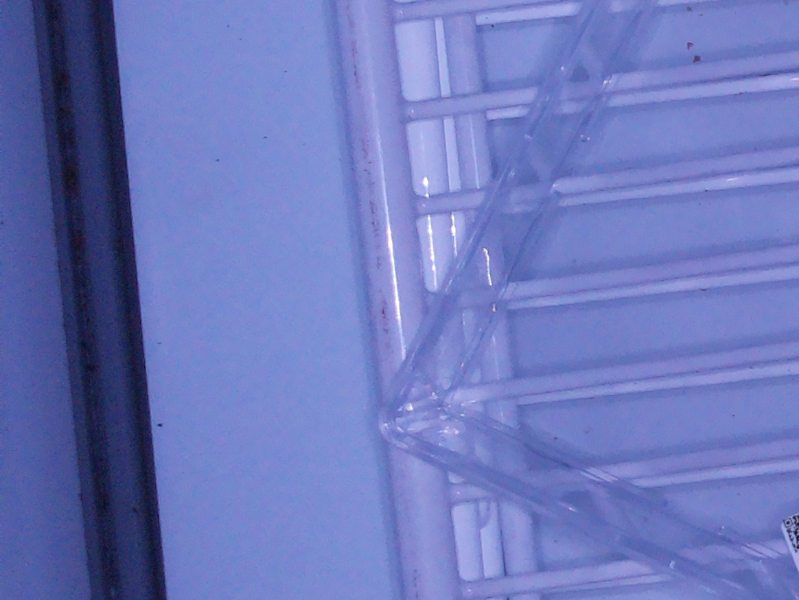plate: (374, 1, 799, 600)
